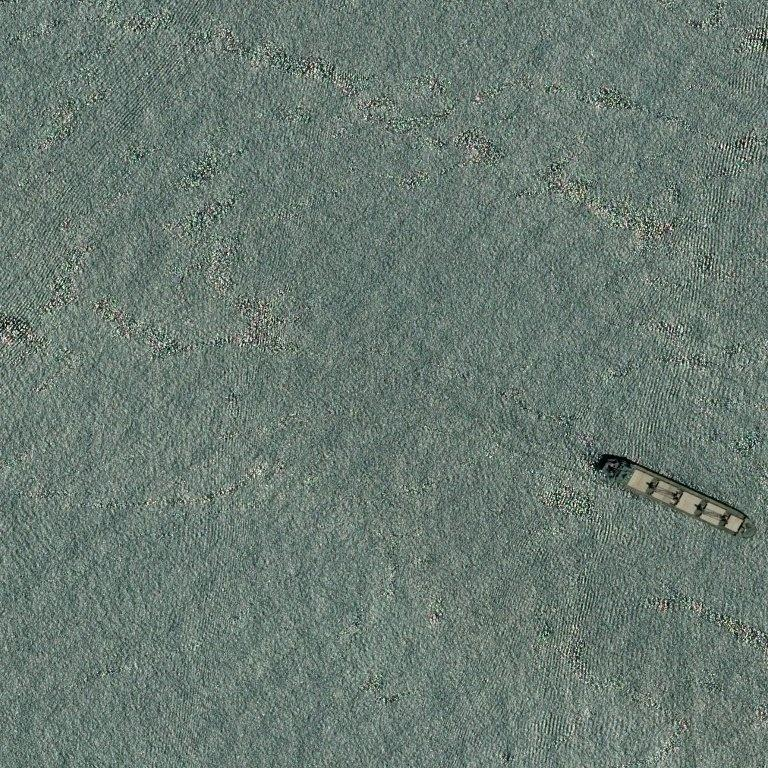ship: (598, 487, 757, 508), (749, 528, 754, 534), (610, 456, 610, 461), (604, 472, 604, 476)
